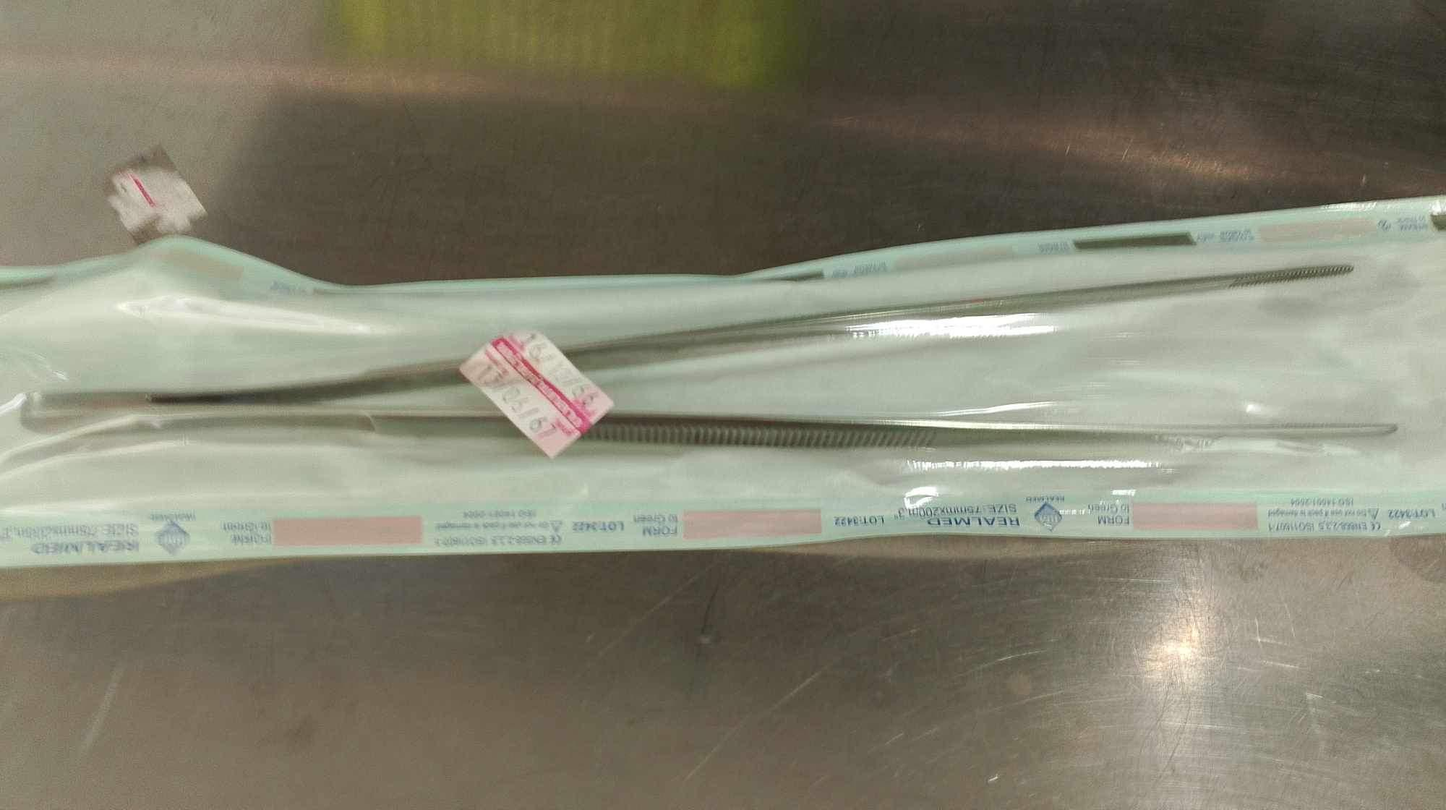General: (3, 188, 1442, 567)
